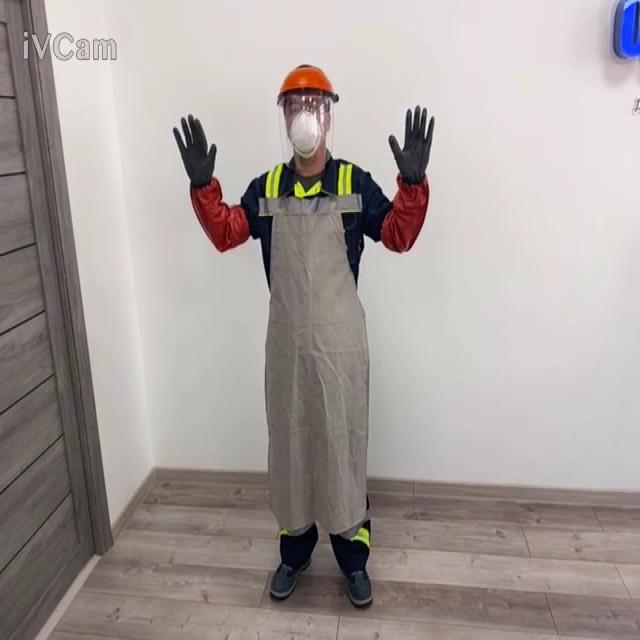Gloves: (388, 104, 434, 184), (172, 113, 216, 188)
Mask: (287, 108, 322, 159)
Protective apron: (260, 165, 370, 538)
Safety Shoes: (269, 556, 311, 599), (344, 567, 372, 605)
Sleeve: (189, 175, 250, 252), (380, 171, 429, 253)
